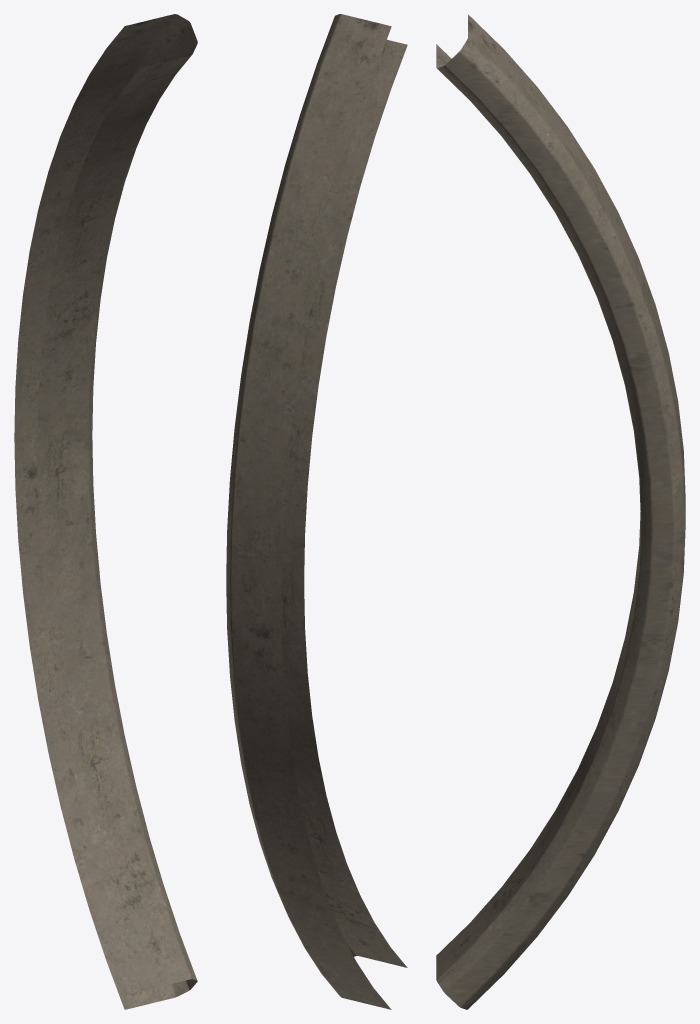
The model's file is cP_GardenLiner01_Curve45_Plain.dae.
The picture shows the model from 3 angles, left to right: view 1: azimuth 30°, elevation 25°; view 2: azimuth 150°, elevation 25°; view 3: azimuth 270°, elevation 25°; orthographic projection.
Parts seen in each view (by area): view 1: cP_GardenLiner01_Curve45_Plain.001; view 2: cP_GardenLiner01_Curve45_Plain.001; view 3: cP_GardenLiner01_Curve45_Plain.001.
Part boxes in pixels (<box>): cP_GardenLiner01_Curve45_Plain.001: <box>14,14,197,1009</box>; cP_GardenLiner01_Curve45_Plain.001: <box>226,14,407,1009</box>; cP_GardenLiner01_Curve45_Plain.001: <box>436,14,685,1009</box>.
Size of the model in its own units: 0.2272 by 0.809 by 3.48.
